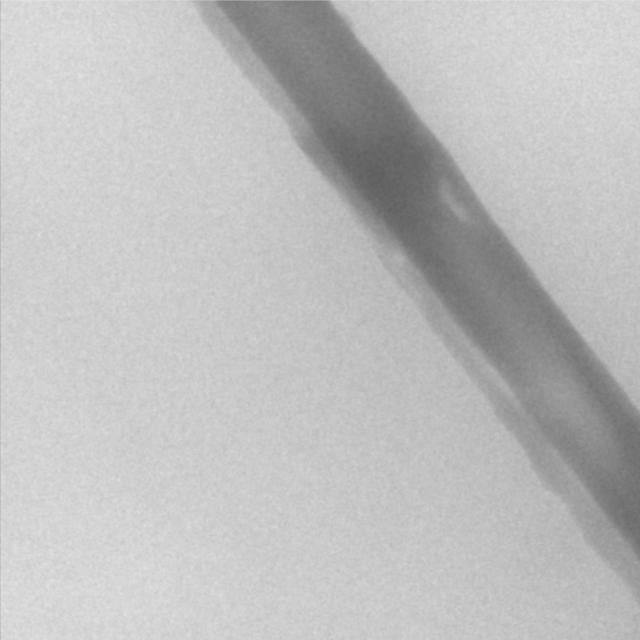unfused: (437, 181, 468, 221)
